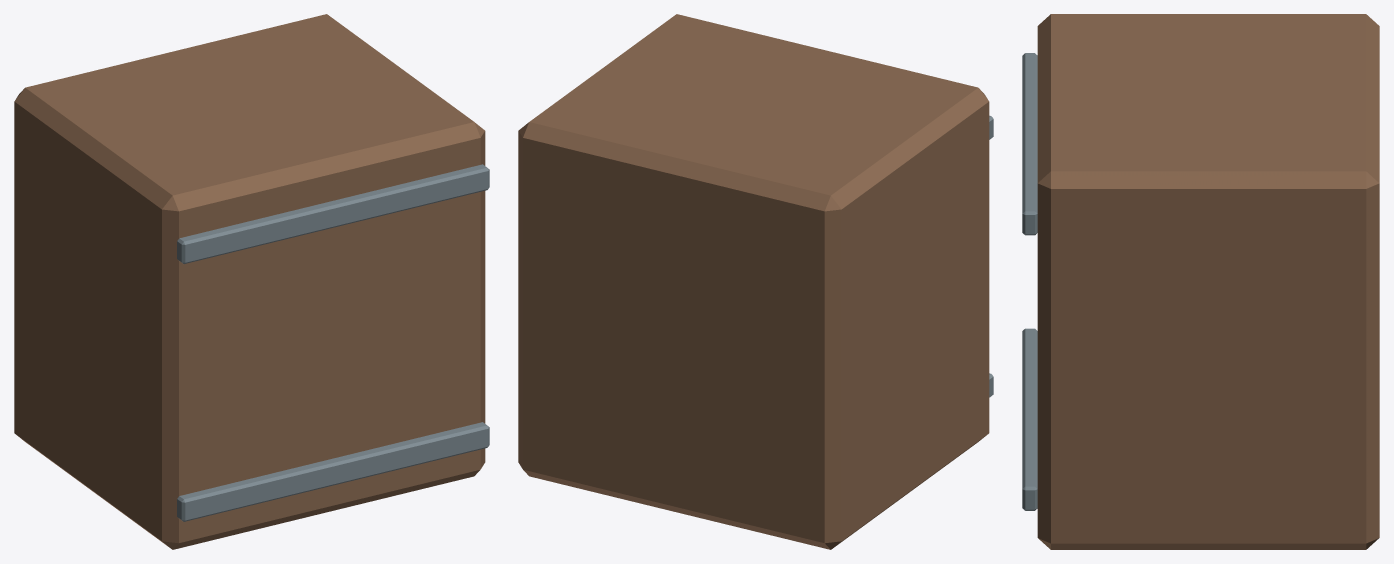
Rendered from street_040_seed11.glb.
3 renders of one model, left to right at view 1: azimuth 30°, elevation 25°; view 2: azimuth 150°, elevation 25°; view 3: azimuth 270°, elevation 25°, orthographic. The views are drawn at different scales.
Parts seen in each view (by area): view 1: street_040_seed11; view 2: street_040_seed11; view 3: street_040_seed11.
Boxes of the visible parts, <box> form: street_040_seed11: <box>14,14,489,549</box>; street_040_seed11: <box>518,14,993,549</box>; street_040_seed11: <box>1022,14,1379,549</box>.
Size of the model in its own units: 1.05 by 1.1 by 0.94.
